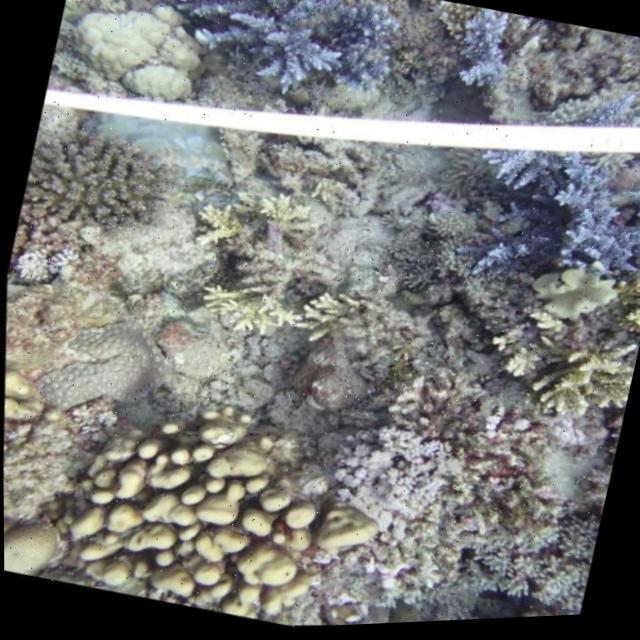Bleached Coral: (296, 389, 482, 575), (1, 199, 102, 316), (448, 8, 515, 109)
Dead Coral: (19, 114, 174, 237)
Healthy Coral: (468, 133, 640, 291), (187, 0, 399, 127)
